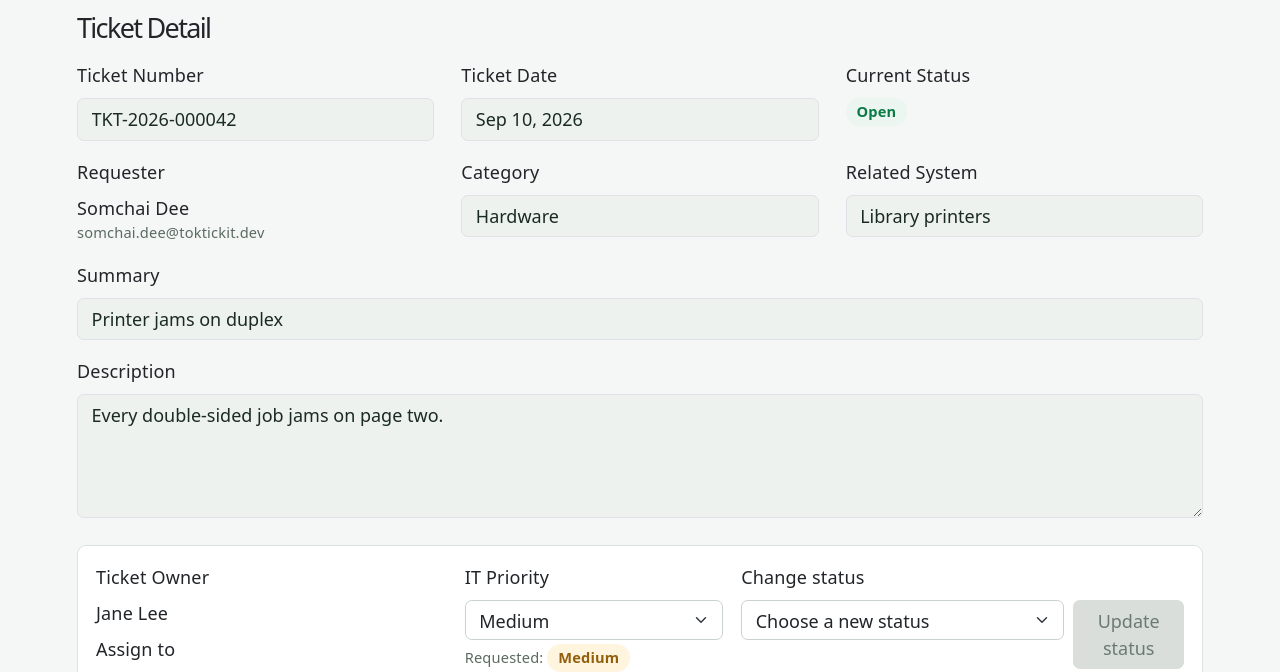
it: StaffTicketDetail › status › shows the server’s conflict message when a change is refused, and keeps the current status
Select "In Progress" in the dropdown labelled "Change status" at point(903, 620), box [741, 600, 1064, 640]
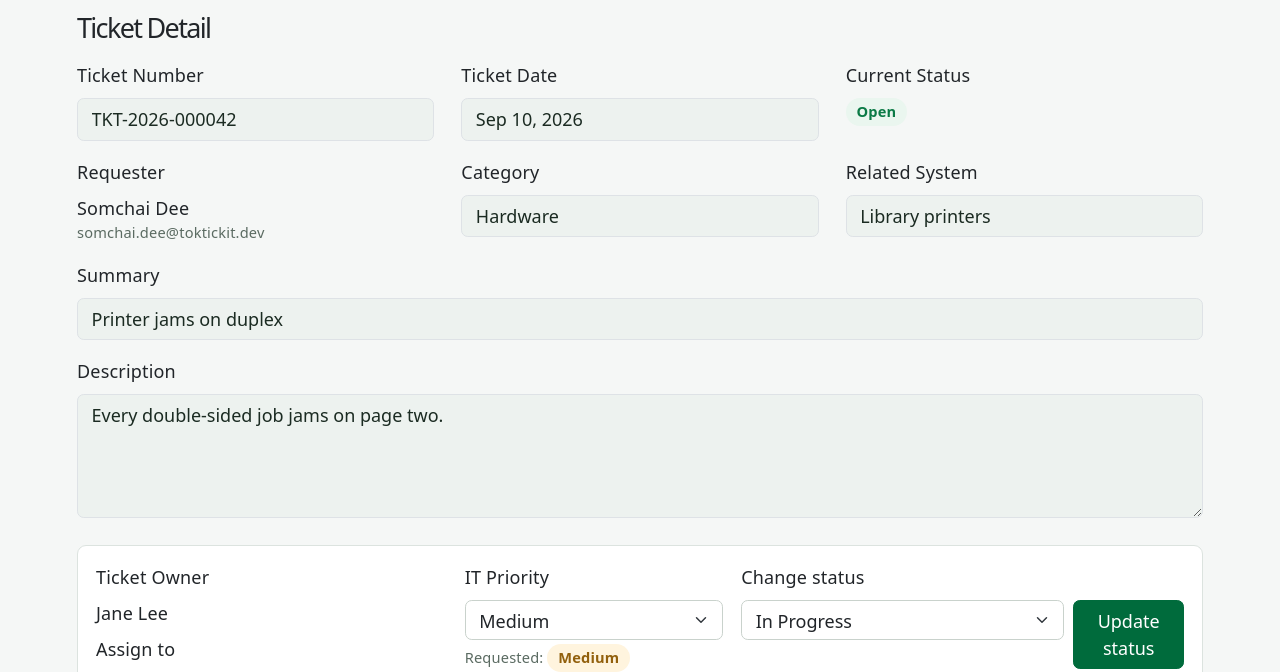
Click the button "Update status" at point(1129, 635), box [1073, 600, 1184, 669]
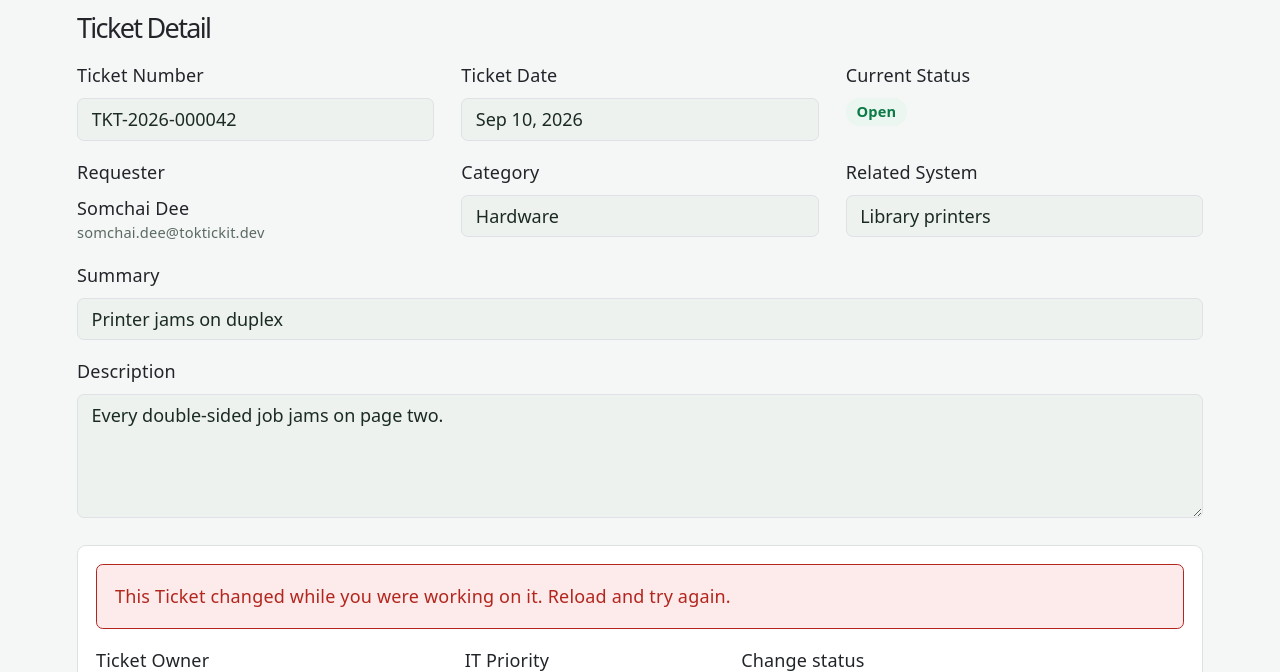
Expected: the text "Open" is shown, [846, 98, 907, 126]
Expected: the message shows "changed while you were working on it", [115, 584, 731, 608]
